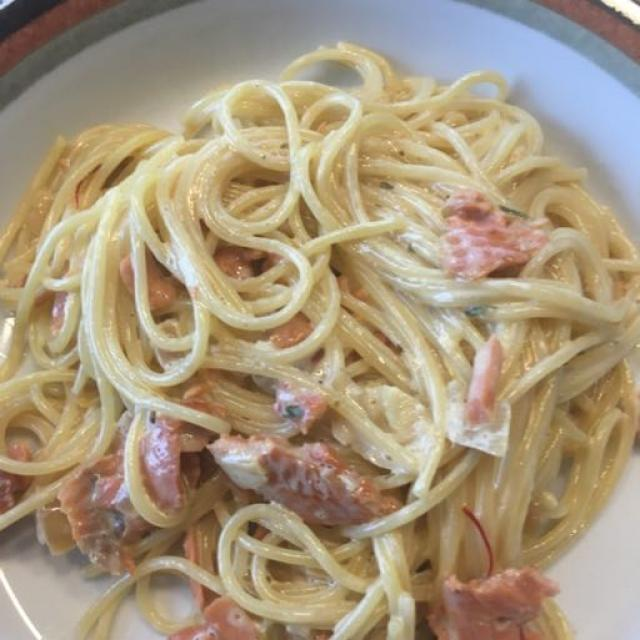pasta: (32, 90, 613, 630)
salmon: (45, 192, 576, 635)
